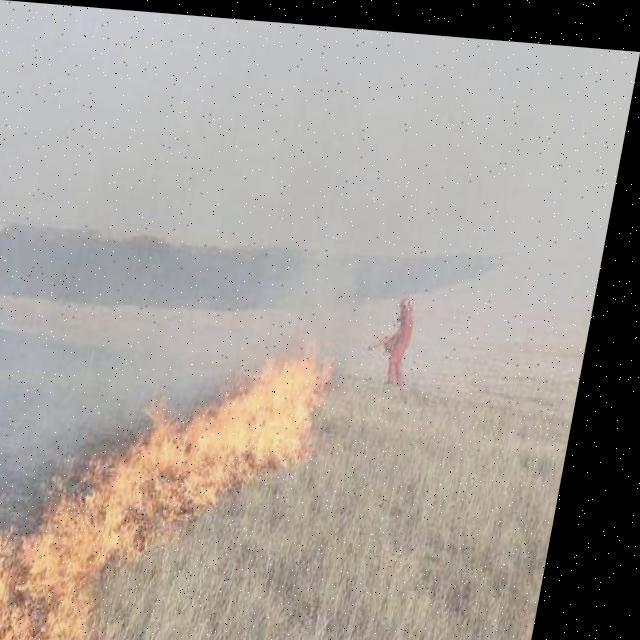Fire: (0, 314, 354, 639)
